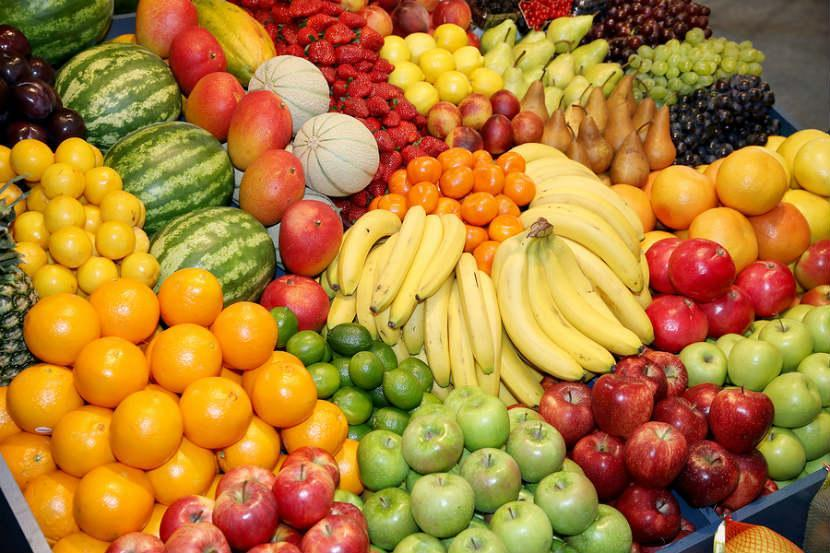apple: (226, 89, 294, 169), (238, 147, 306, 226), (277, 200, 343, 280), (707, 385, 774, 453), (174, 37, 234, 112), (184, 71, 247, 140), (211, 478, 275, 545), (263, 273, 330, 337), (624, 422, 688, 489), (537, 378, 597, 448), (594, 373, 654, 438), (680, 441, 737, 509), (274, 462, 334, 526), (733, 259, 797, 319), (135, 1, 199, 59), (622, 485, 681, 545), (576, 433, 623, 496), (615, 358, 665, 414), (303, 515, 369, 553), (167, 515, 233, 553)
